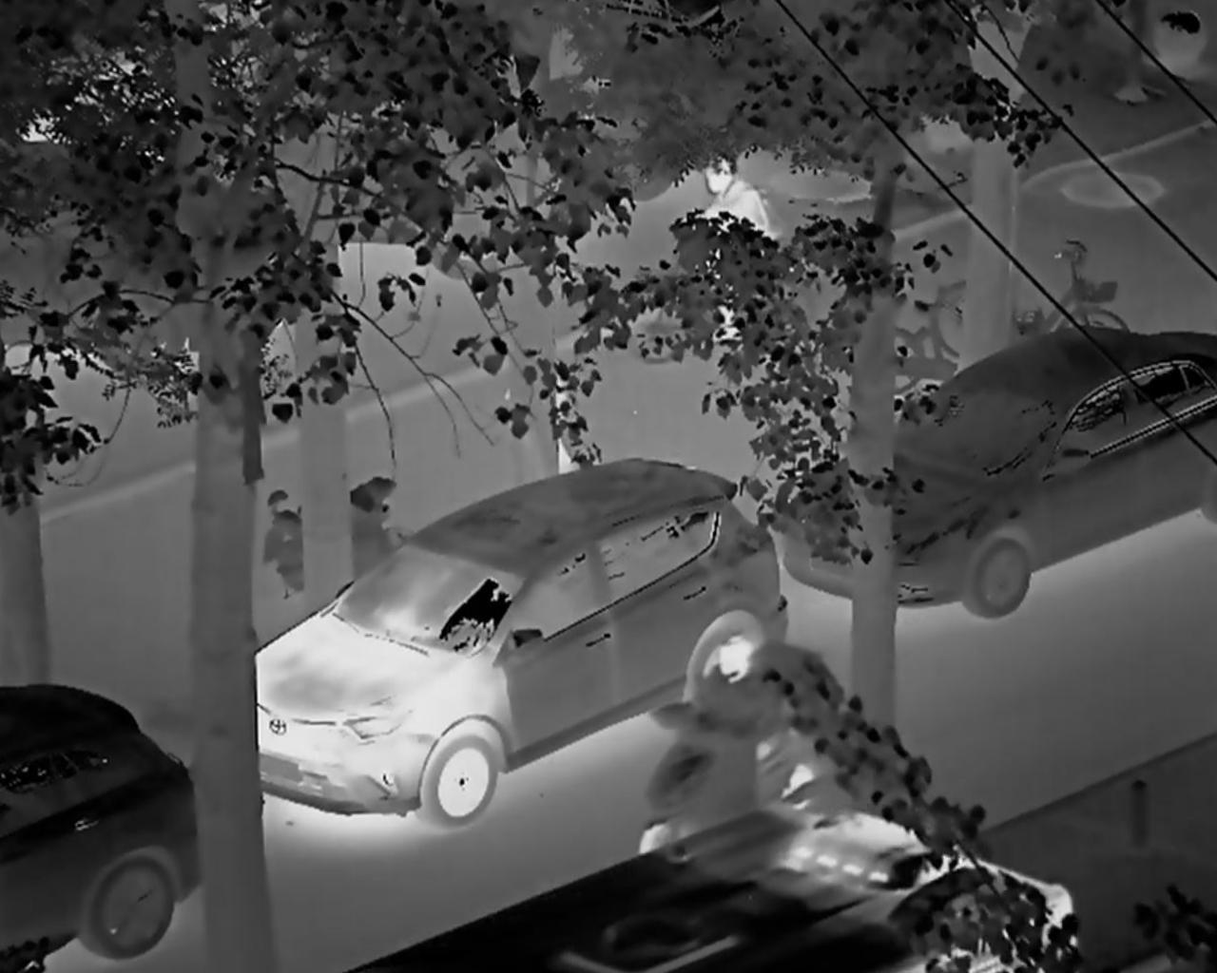person: (643, 639, 782, 849), (693, 164, 769, 351)
